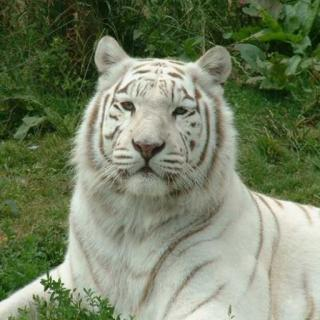Tiger: (6, 28, 319, 320)
